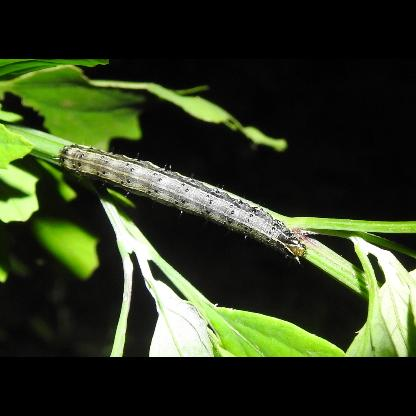Fall Armyworm Larvae: (51, 140, 312, 266)
